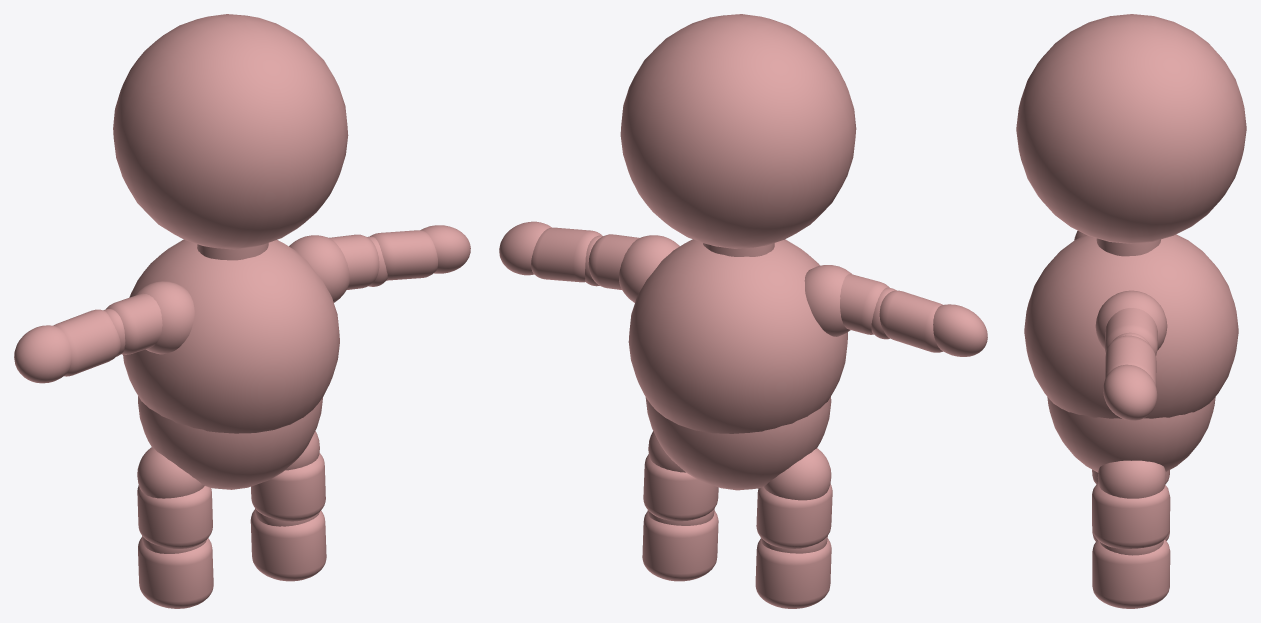
File: Ragdoll animation.fbx
The picture shows the model from 3 angles, left to right: view 1: azimuth 30°, elevation 25°; view 2: azimuth 150°, elevation 25°; view 3: azimuth 270°, elevation 25°; orthographic projection. The views are drawn at different scales.
Parts seen in each view (by area): view 1: Hips_HipsShape; view 2: Hips_HipsShape; view 3: Hips_HipsShape.
Part boxes in pixels (x1,y1,x2,y2): Hips_HipsShape: (14, 14, 470, 608); Hips_HipsShape: (499, 14, 987, 608); Hips_HipsShape: (1016, 14, 1246, 608).
Size of the model in its own units: 1113 by 1286 by 487.
